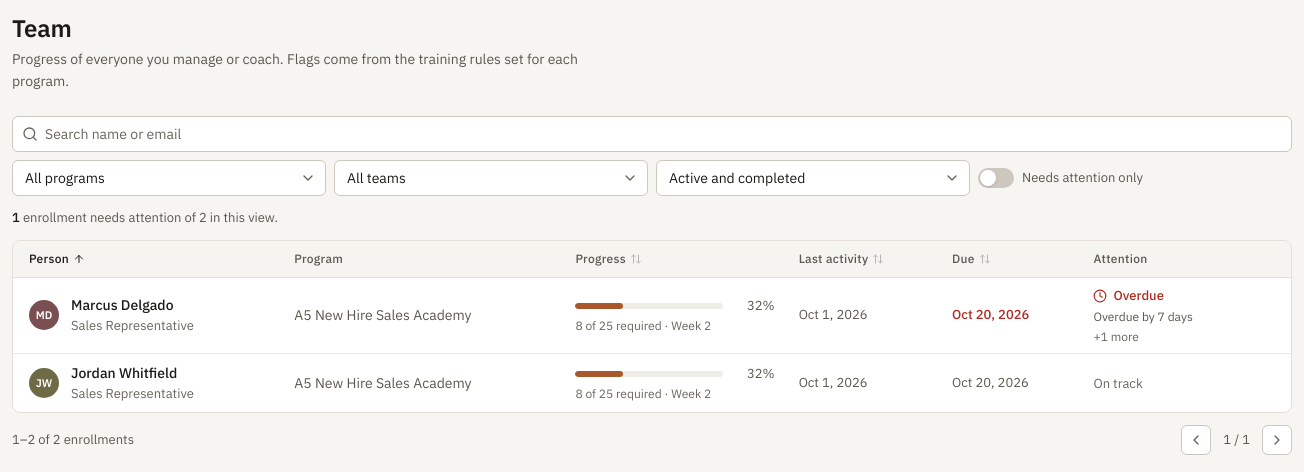
Team page › keeps the attention filter in the URL and asks the API for flagged rows only
Check: the table named "Team progress" is shown, box top-left (13, 241), bottom-right (1291, 412)
Click the switch named "Needs attention only". click: (996, 178)
box: top-left (978, 168), bottom-right (1014, 188)
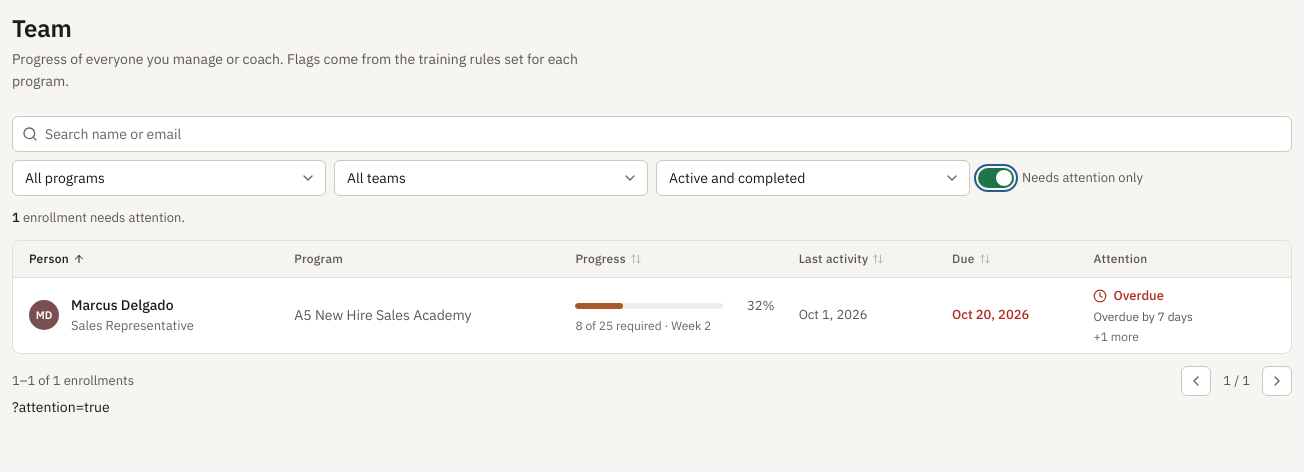
Check: the text with test id "url" shows "attention=true", box top-left (12, 398), bottom-right (110, 416)
Check: the button "Jordan Whitfield" is gone
